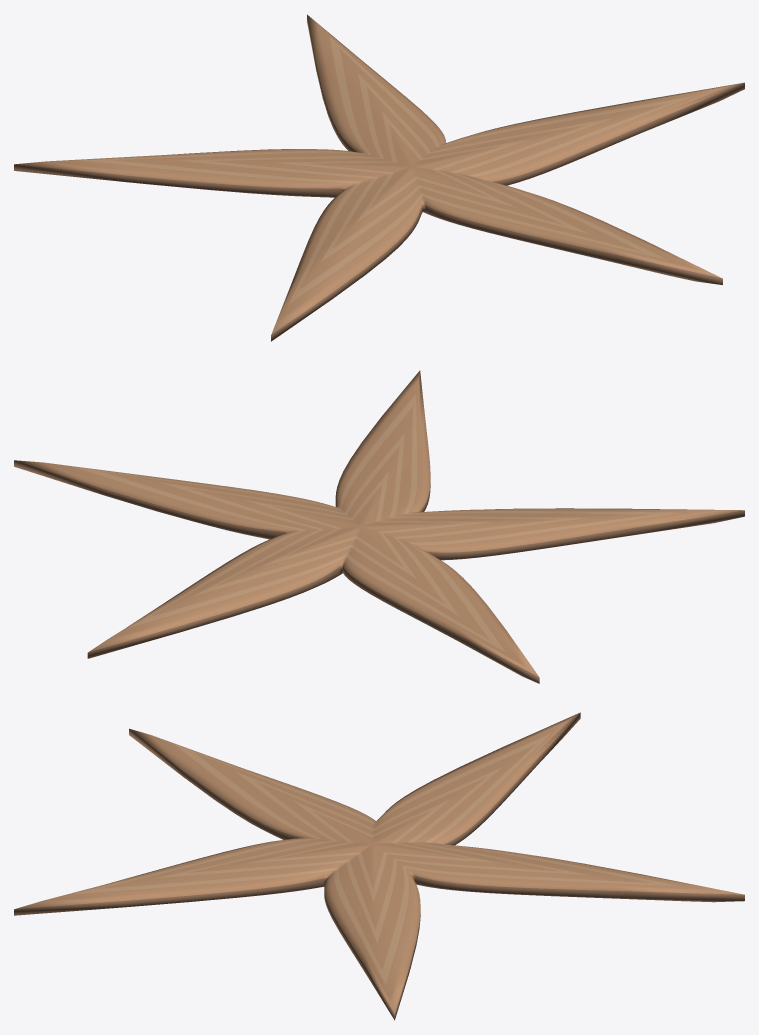
File: urasterella.glb
The picture shows the model from 3 angles, top to bottom: view 1: azimuth 30°, elevation 25°; view 2: azimuth 150°, elevation 25°; view 3: azimuth 270°, elevation 25°; orthographic projection. The views are drawn at different scales.
Visible parts, largest first — view 1: continuous-five-arm-disc; view 2: continuous-five-arm-disc; view 3: continuous-five-arm-disc.
Boxes of the visible parts, x1,y1,x2,y2 form: continuous-five-arm-disc: [14, 14, 744, 341]; continuous-five-arm-disc: [14, 370, 744, 683]; continuous-five-arm-disc: [14, 712, 744, 1020].
Bounding box in the file's own units: 0.0644 × 0.00271 × 0.0665.
